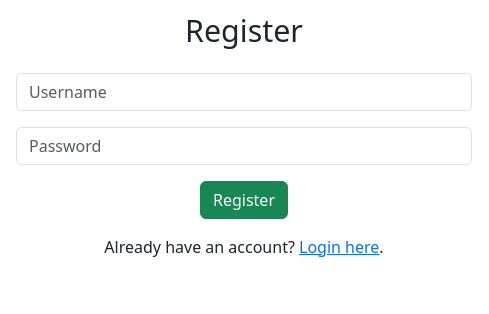
Test: Register Component › should display error if username or password is empty
Click the button "Register". click: click(244, 200)
box: [200, 180, 288, 218]
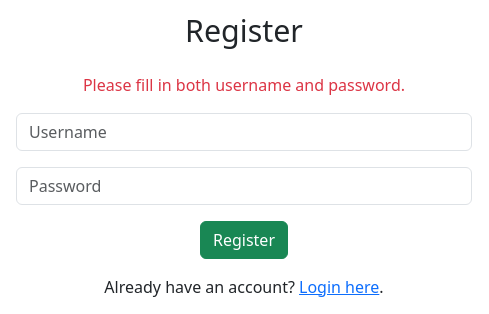
Expected: the text "Please fill in both username and password." is shown, [83, 74, 405, 96]
